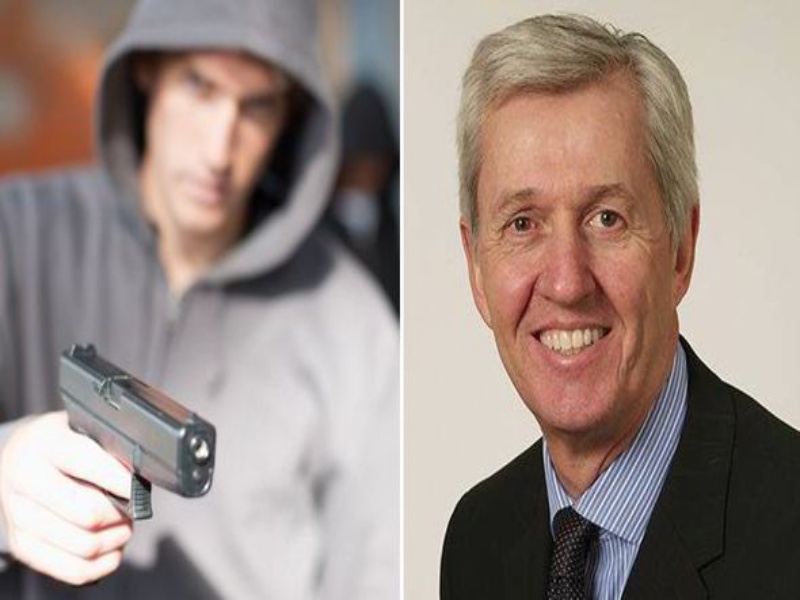gun: (49, 346, 218, 569)
